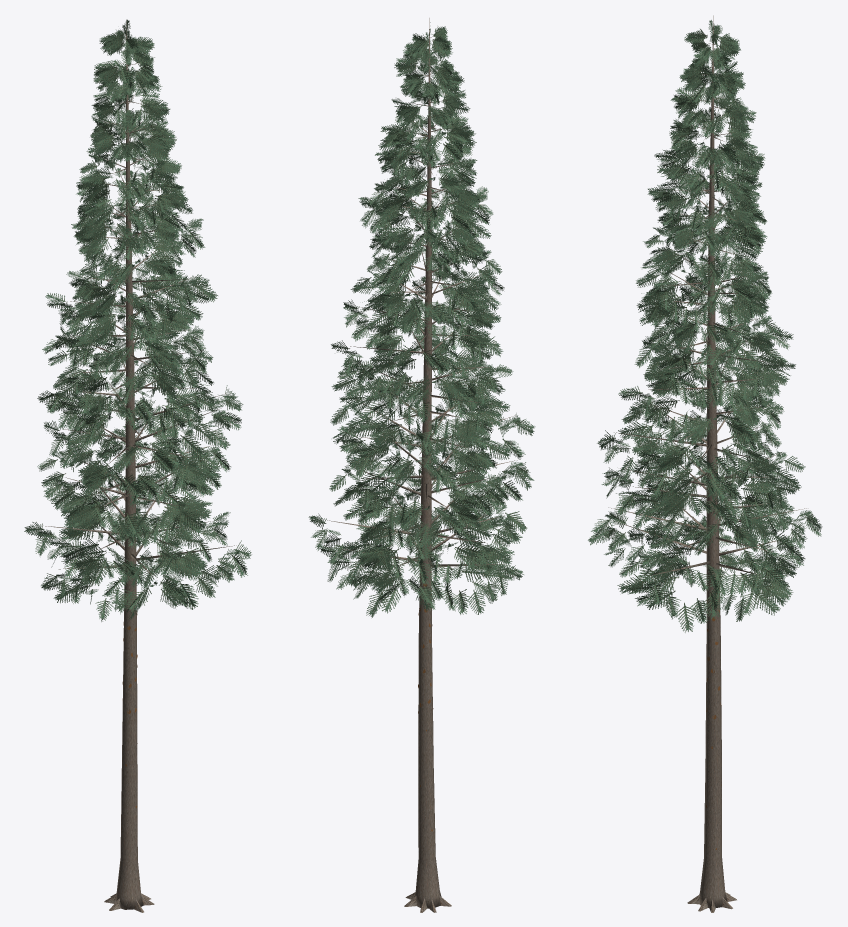
Rendered from Sitka_Mature_Benchmark_01_HighPruned_Recent_LOD2.fbx.
3 renders of one model, left to right at view 1: azimuth 30°, elevation 25°; view 2: azimuth 150°, elevation 25°; view 3: azimuth 270°, elevation 25°, orthographic.
Parts seen in each view (by area): view 1: Sitka_Mature_Benchmark_01_HighPruned_Recent_LOD2_Foliage, Sitka_Mature_Benchmark_01_HighPruned_Recent_LOD2_Trunk, Sitka_Mature_Benchmark_01_HighPruned_Recent_LOD2_Branches; view 2: Sitka_Mature_Benchmark_01_HighPruned_Recent_LOD2_Foliage, Sitka_Mature_Benchmark_01_HighPruned_Recent_LOD2_Trunk, Sitka_Mature_Benchmark_01_HighPruned_Recent_LOD2_Branches; view 3: Sitka_Mature_Benchmark_01_HighPruned_Recent_LOD2_Foliage, Sitka_Mature_Benchmark_01_HighPruned_Recent_LOD2_Trunk, Sitka_Mature_Benchmark_01_HighPruned_Recent_LOD2_Branches.
Part boxes in pixels (bbox=[...]): Sitka_Mature_Benchmark_01_HighPruned_Recent_LOD2_Foliage: bbox=[24, 19, 251, 621]; Sitka_Mature_Benchmark_01_HighPruned_Recent_LOD2_Trunk: bbox=[104, 19, 154, 912]; Sitka_Mature_Benchmark_01_HighPruned_Recent_LOD2_Branches: bbox=[45, 34, 236, 576]; Sitka_Mature_Benchmark_01_HighPruned_Recent_LOD2_Foliage: bbox=[308, 22, 535, 617]; Sitka_Mature_Benchmark_01_HighPruned_Recent_LOD2_Trunk: bbox=[404, 18, 451, 912]; Sitka_Mature_Benchmark_01_HighPruned_Recent_LOD2_Branches: bbox=[323, 36, 517, 567]; Sitka_Mature_Benchmark_01_HighPruned_Recent_LOD2_Foliage: bbox=[588, 20, 822, 632]; Sitka_Mature_Benchmark_01_HighPruned_Recent_LOD2_Trunk: bbox=[687, 15, 736, 912]; Sitka_Mature_Benchmark_01_HighPruned_Recent_LOD2_Branches: bbox=[608, 43, 806, 576].
Size of the model in its own units: 647 by 2600 by 688.
Materials: 3 (3 with a texture image).
